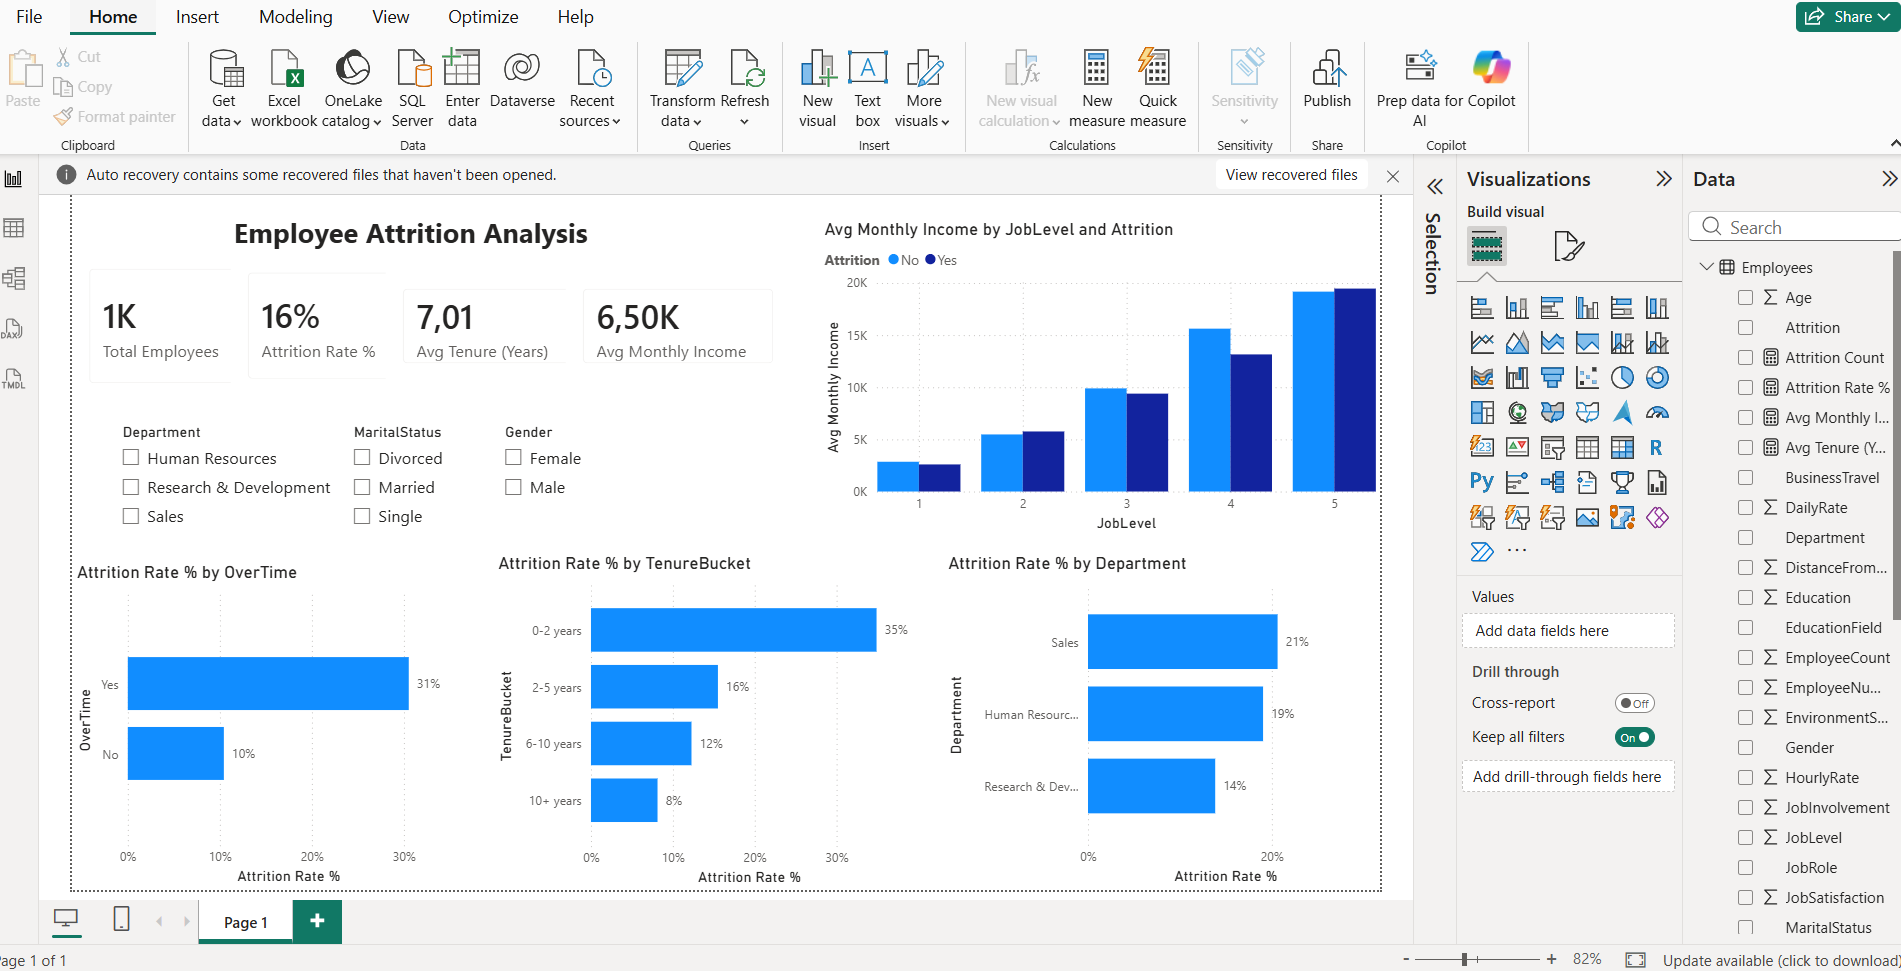

Layout of this report page (visuals, bound fields, positions):
{"tool":"powerbi","page":{"name":"Page 1","canvas":[1280,720],"ordinal":0},"visuals":[{"type":"cardVisual","fields":{"Data":["Employees.Total Employees"]},"box":[0,95.4,181,146.7],"z":0},{"type":"cardVisual","fields":{"Data":["Employees.Attrition Rate %"]},"box":[155.3,99,176.1,138.2],"z":1000},{"type":"cardVisual","fields":{"Data":["Employees.Avg Tenure (Years)"]},"box":[306.9,114.9,209.1,107.6],"z":2000},{"type":"cardVisual","fields":{"Data":["Employees.Avg Monthly Income"]},"box":[483,114.9,220.1,107.6],"z":3000},{"type":"clusteredBarChart","fields":{"Category":["Employees.Department"],"Y":["Employees.Attrition Rate %"]},"box":[851.7,389.6,428.5,329.1],"z":4000},{"type":"clusteredBarChart","fields":{"Category":["Employees.OverTime"],"Y":["Employees.Attrition Rate %"]},"box":[0,399,386.9,321.1],"z":5000},{"type":"clusteredBarChart","fields":{"Category":["Employees.TenureBucket"],"Y":["Employees.Attrition Rate %"]},"box":[412.4,389.6,423.2,330.5],"z":6000},{"type":"slicer","fields":{"Values":["Employees.Department"]},"box":[36.3,257.9,227,122.3],"z":7000},{"type":"slicer","fields":{"Values":["Employees.Gender"]},"box":[411.1,257.9,145.1,98.1],"z":8000},{"type":"slicer","fields":{"Values":["Employees.MaritalStatus"]},"box":[263.3,257.9,127.6,122.3],"z":9000},{"type":"textbox","box":[135.7,53.8,391.3,57.5],"z":9001},{"type":"clusteredColumnChart","fields":{"Category":["Employees.JobLevel"],"Y":["Employees.Avg Monthly Income"],"Series":["Employees.Attrition"]},"box":[730.8,63.1,549.5,310.3],"z":9003}]}

Visuals, with their boxes on the page's 1280x720 design canvas (x1, y1, x2, y2). These are canvas units, not pixel positions in the 1901x971 screenshot, which may show the page scaled, cropped or inside an application window:
cardVisual - Employees.Total Employees: (left=0, top=95, right=181, bottom=242)
cardVisual - Employees.Attrition Rate %: (left=155, top=99, right=331, bottom=237)
cardVisual - Employees.Avg Tenure (Years): (left=307, top=115, right=516, bottom=222)
cardVisual - Employees.Avg Monthly Income: (left=483, top=115, right=703, bottom=222)
clusteredBarChart - Employees.Department x Employees.Attrition Rate %: (left=852, top=390, right=1280, bottom=719)
clusteredBarChart - Employees.OverTime x Employees.Attrition Rate %: (left=0, top=399, right=387, bottom=720)
clusteredBarChart - Employees.TenureBucket x Employees.Attrition Rate %: (left=412, top=390, right=836, bottom=720)
slicer - Employees.Department: (left=36, top=258, right=263, bottom=380)
slicer - Employees.Gender: (left=411, top=258, right=556, bottom=356)
slicer - Employees.MaritalStatus: (left=263, top=258, right=391, bottom=380)
textbox: (left=136, top=54, right=527, bottom=111)
clusteredColumnChart - Employees.JobLevel x Employees.Avg Monthly Income: (left=731, top=63, right=1280, bottom=373)
